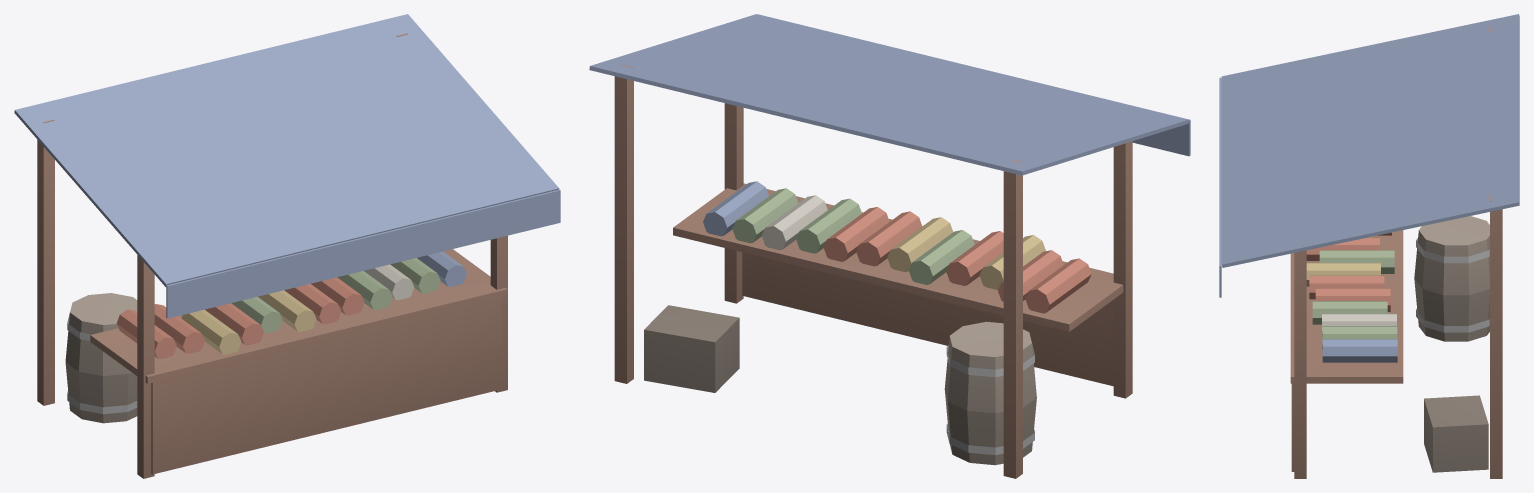
File: stall_4.glb
3 views of the same model, side by side, from view 1: azimuth 30°, elevation 25°; view 2: azimuth 150°, elevation 25°; view 3: azimuth 270°, elevation 25° (orthographic). The views are drawn at different scales.
Parts seen in each view (by area): view 1: stall_4; view 2: stall_4; view 3: stall_4.
Part boxes in pixels (bbox=[...]): stall_4: bbox=[14, 14, 560, 478]; stall_4: bbox=[589, 14, 1190, 478]; stall_4: bbox=[1219, 14, 1519, 478].
Bounding box in the file's own units: 3.56 × 2.5 × 2.4.
